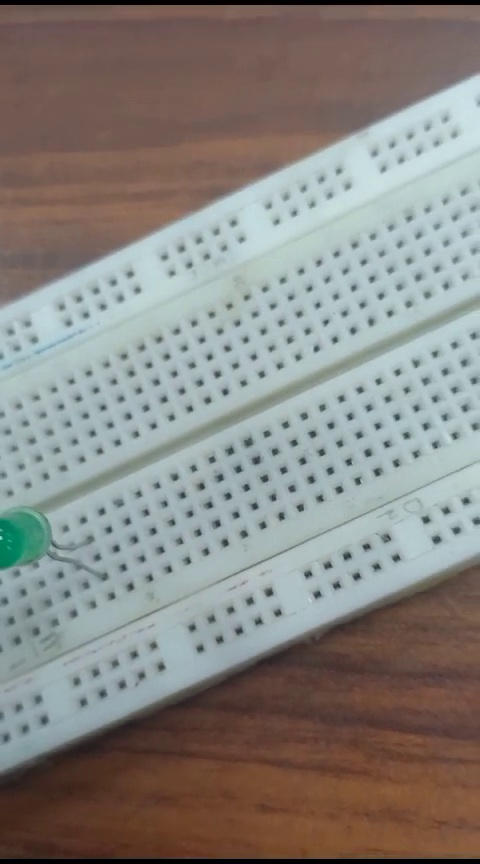LED: (4, 509, 96, 579)
